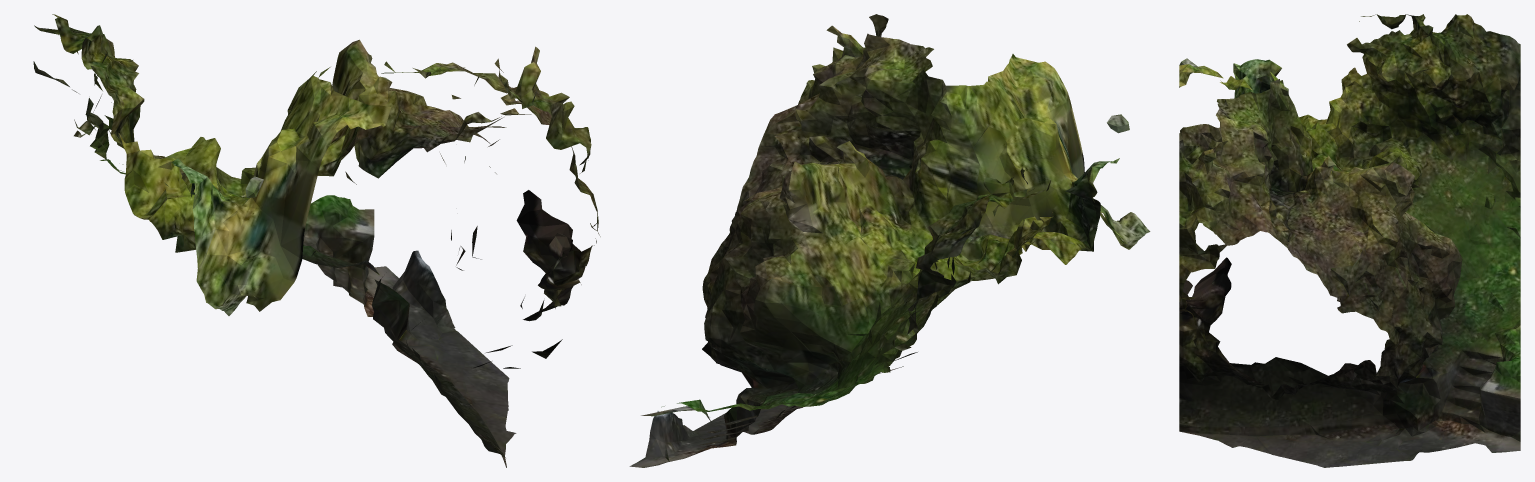
3 views of the same model, side by side, from view 1: azimuth 30°, elevation 25°; view 2: azimuth 150°, elevation 25°; view 3: azimuth 270°, elevation 25° (orthographic). The views are drawn at different scales.
Bounding box in the file's own units: 6.7 × 6.7 × 6.7.
6 materials, 6 textured.
